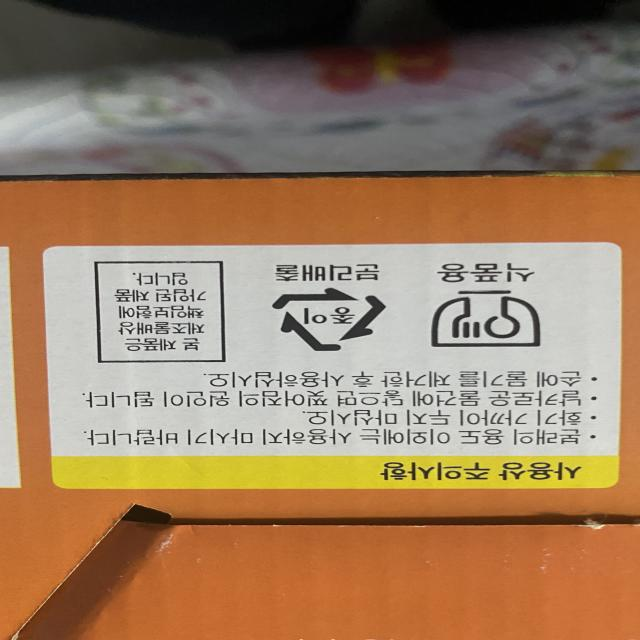Paper: (260, 286, 391, 359)
